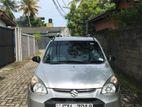car: (28, 38, 122, 107)
